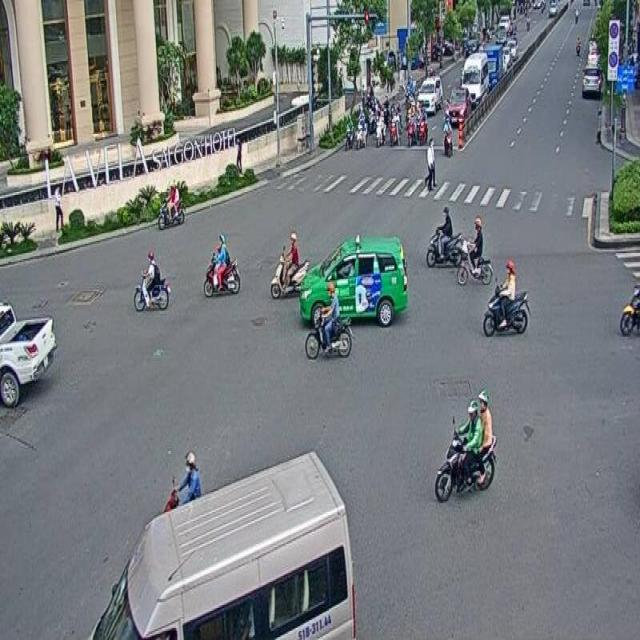bicycle: (456, 216, 493, 286)
car: (301, 233, 408, 323), (0, 302, 56, 408)
motorcycle: (434, 388, 496, 504), (304, 282, 352, 361), (482, 260, 530, 336), (269, 232, 308, 298), (202, 233, 240, 296), (133, 250, 170, 312), (425, 207, 460, 270), (158, 183, 185, 230)
truck: (85, 446, 355, 640)
